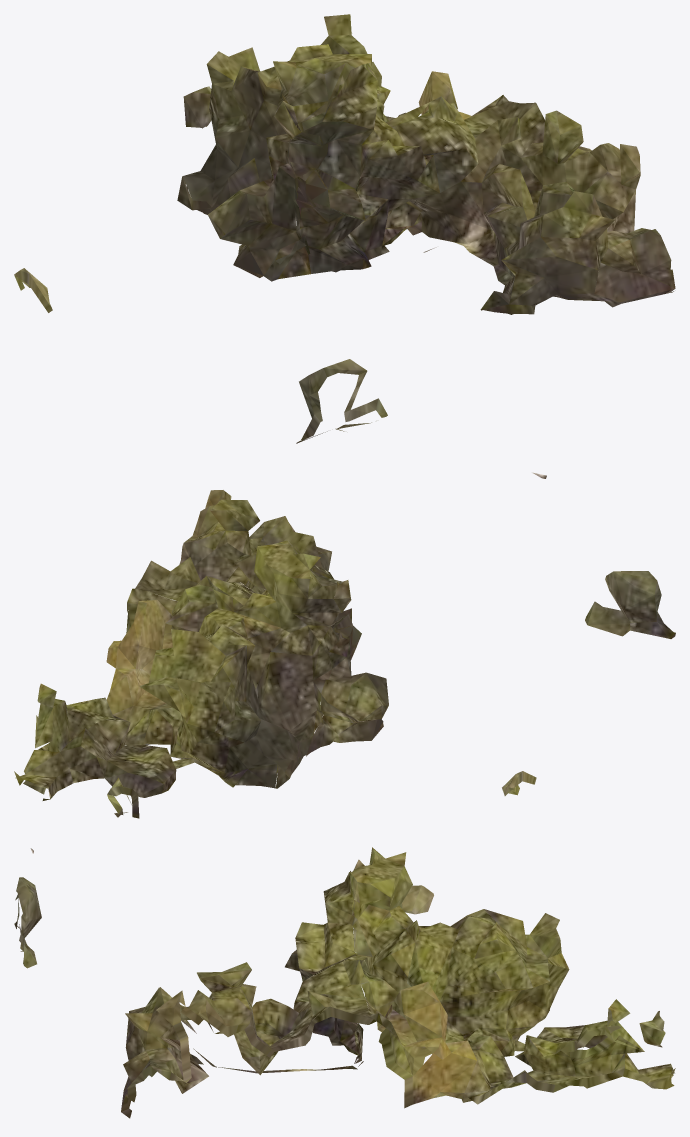
3 renders of one model, top to bottom at view 1: azimuth 30°, elevation 25°; view 2: azimuth 150°, elevation 25°; view 3: azimuth 270°, elevation 25°, orthographic. The views are drawn at different scales.
Parts seen in each view (by area): view 1: Mesh_0; view 2: Mesh_0; view 3: Mesh_0.
Boxes of the visible parts, x1,y1,x2,y2 form: Mesh_0: (14,14,675,443); Mesh_0: (14,472,675,818); Mesh_0: (14,847,675,1118).
Bounding box in the file's own units: 32.02 × 11.95 × 41.31.
1 material, 1 textured.
